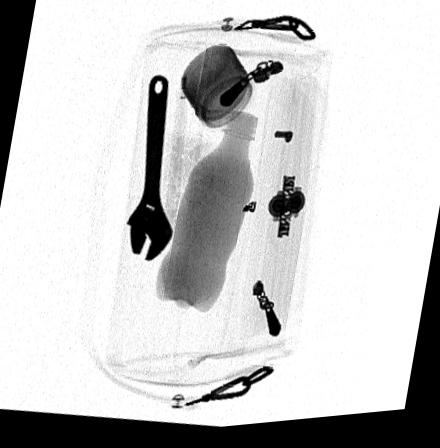Wrench: (127, 74, 173, 263)
